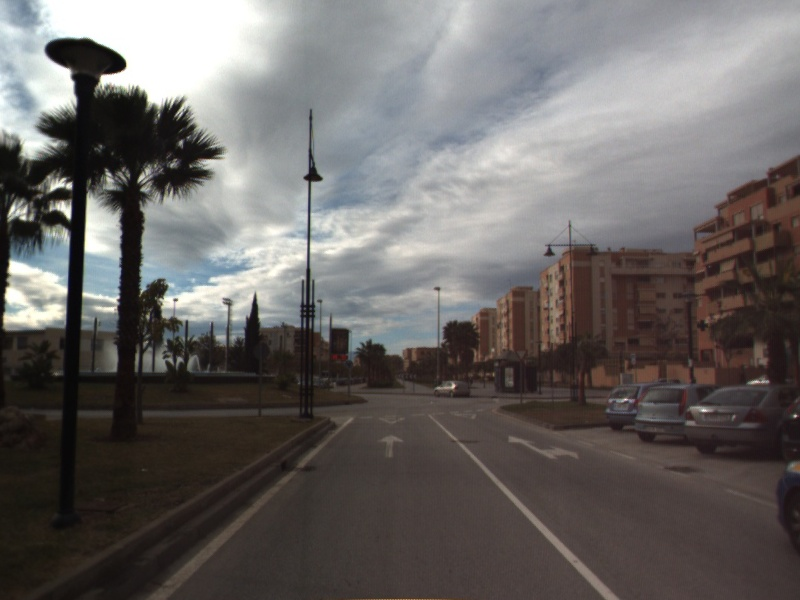STRAIGHT: (376, 432, 405, 459)
STRAIGHT_RIGHT: (506, 433, 580, 461)
